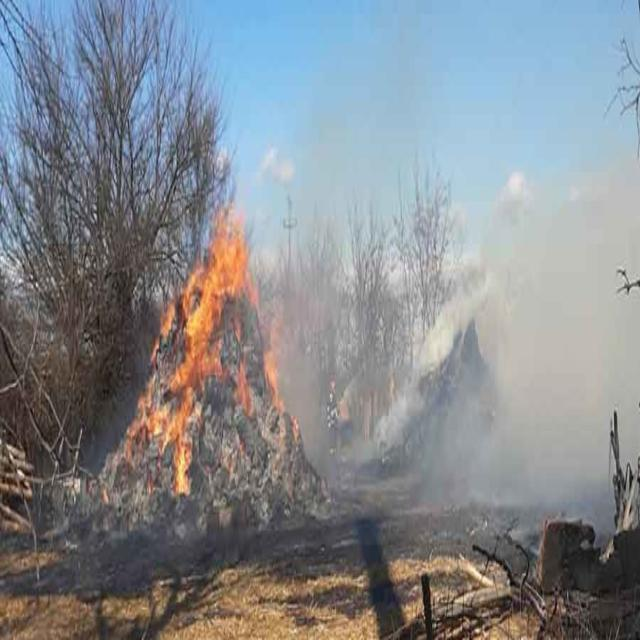Fire: (134, 201, 284, 521)
Smoke: (266, 93, 640, 564)
